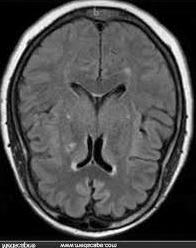Normal_Brain: (2, 1, 196, 248)
